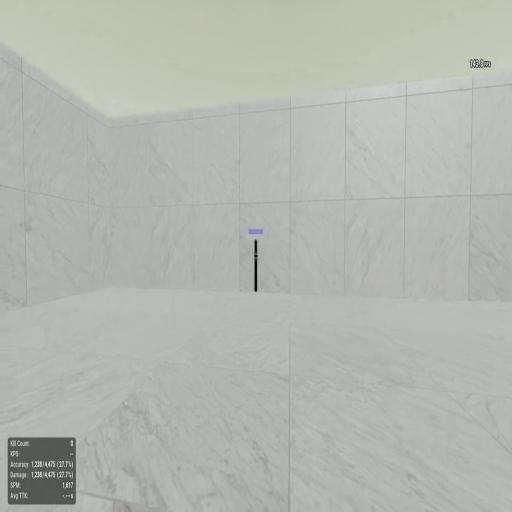Crosshair: (254, 252, 258, 261)
Target: (254, 240, 258, 292)
